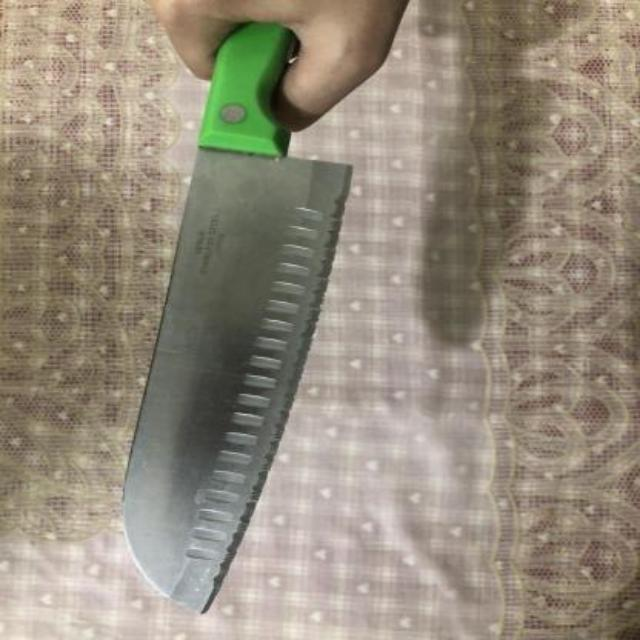Knife: (118, 24, 352, 614)
